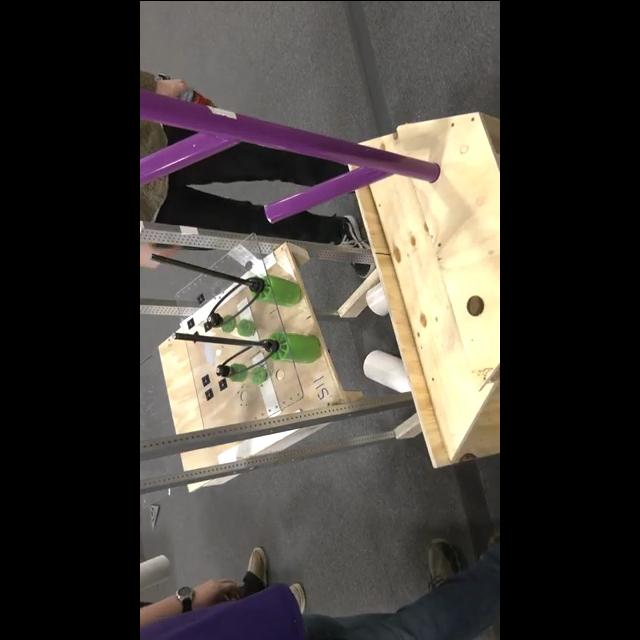CORAL: (361, 350, 411, 394), (366, 282, 388, 314)
